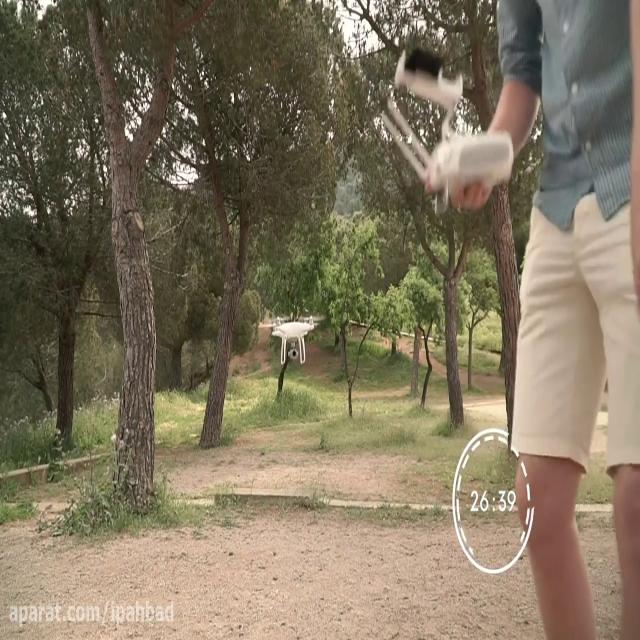drone: (262, 310, 326, 372)
